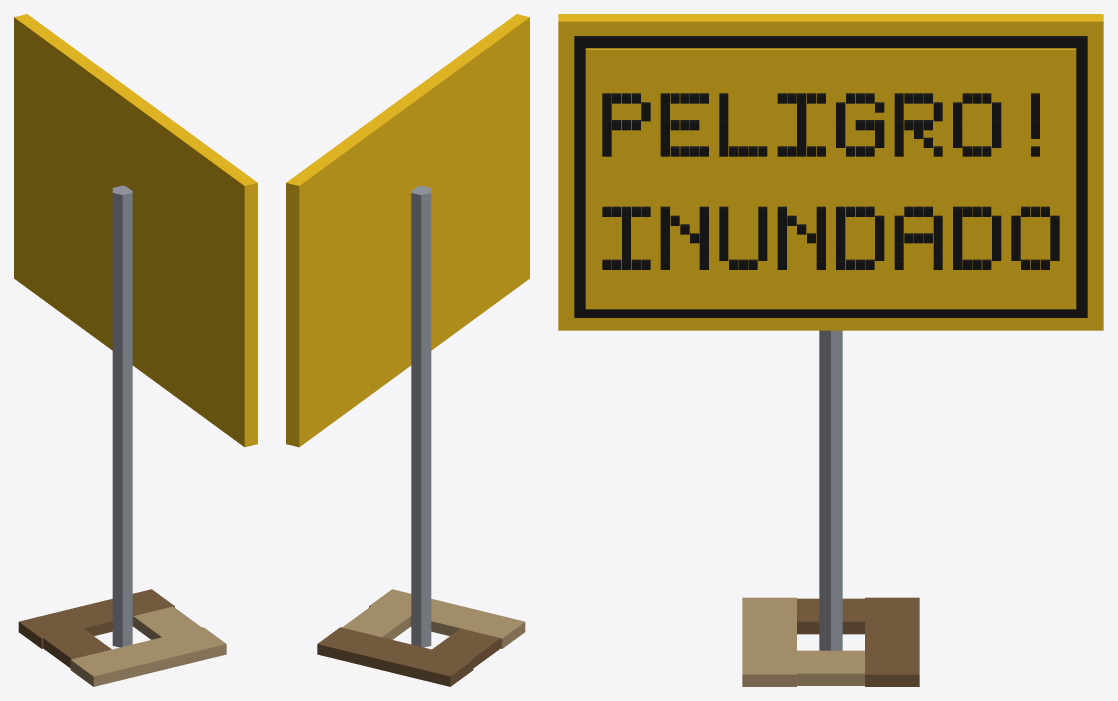
Rendered from letrero_inundacion.obj.
3 renders of one model, left to right at view 1: azimuth 30°, elevation 25°; view 2: azimuth 150°, elevation 25°; view 3: azimuth 270°, elevation 25°, orthographic. The views are drawn at different scales.
Visible parts, largest first — view 1: letrero_inundacion; view 2: letrero_inundacion; view 3: letrero_inundacion.
Part boxes in pixels (x1=…): letrero_inundacion: x1=14, y1=14, x2=257, y2=686; letrero_inundacion: x1=286, y1=14, x2=529, y2=686; letrero_inundacion: x1=558, y1=14, x2=1103, y2=686.
Bounding box in the file's own units: 0.8 × 3.1 × 2.4.
